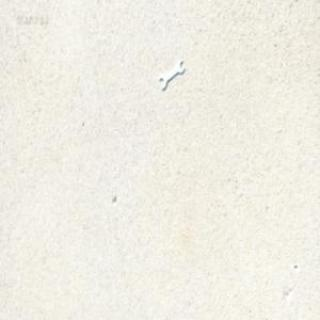Wrenchtrack_idkeyframe: (158, 58, 183, 90)
